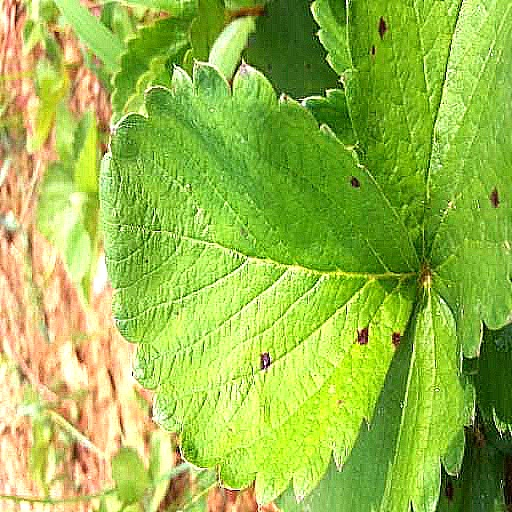Leaf Spot: (97, 60, 424, 507), (343, 0, 511, 359), (241, 0, 345, 102)
